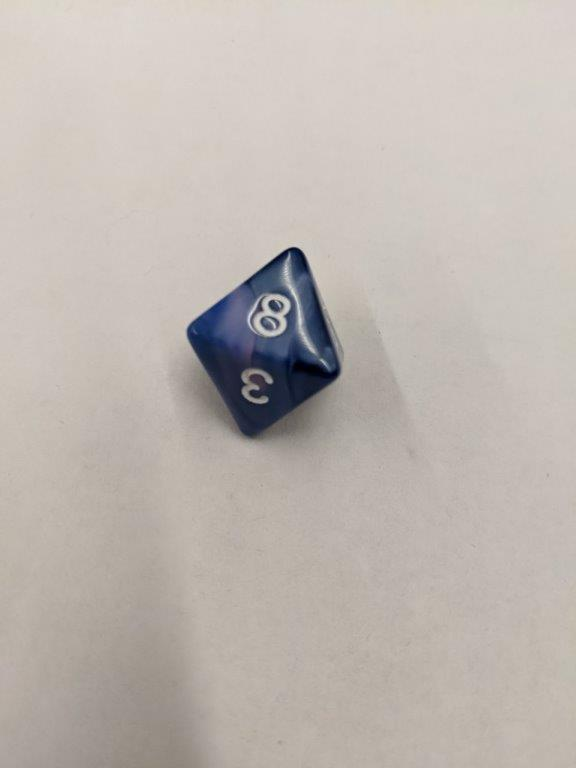d8-8: (183, 249, 344, 441)
